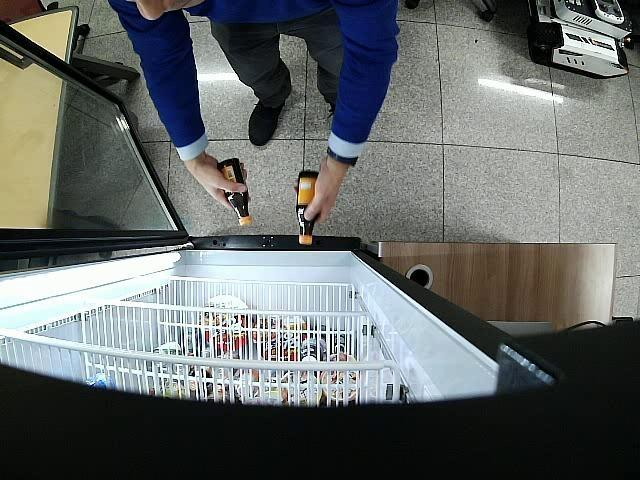17_vita500: (220, 158, 254, 227), (298, 170, 318, 244)
